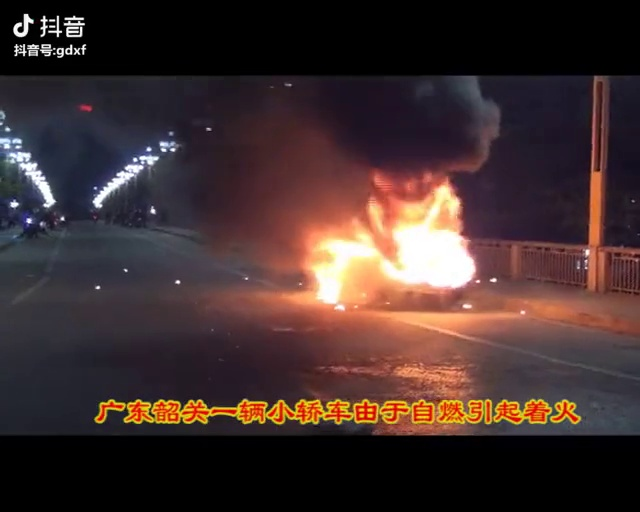fire: (311, 177, 480, 309)
yanwu: (184, 85, 318, 275), (333, 74, 497, 176)
